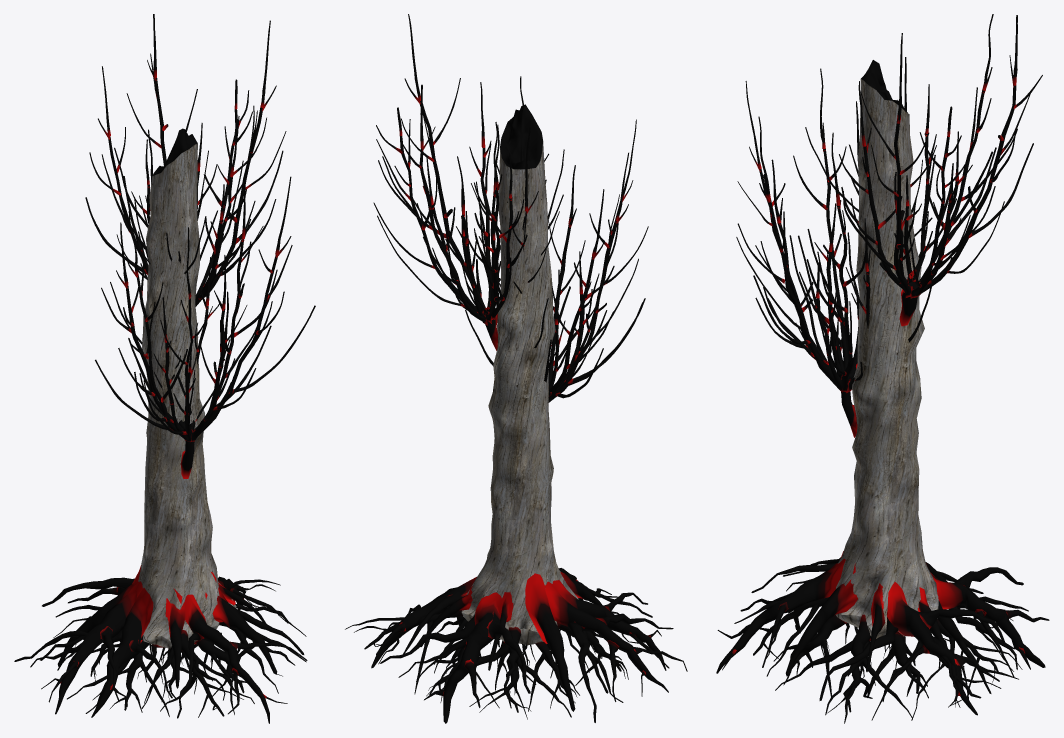
The model's file is Populus nigra Italica HD_Snag 1 dead_LOD2.fbx.
3 renders of one model, left to right at view 1: azimuth 30°, elevation 25°; view 2: azimuth 150°, elevation 25°; view 3: azimuth 270°, elevation 25°, orthographic. The views are drawn at different scales.
Visible parts, largest first — view 1: Populus_nigra__Italica__HD; view 2: Populus_nigra__Italica__HD; view 3: Populus_nigra__Italica__HD.
Boxes of the visible parts, x1,y1,x2,y2 form: Populus_nigra__Italica__HD: [14, 14, 315, 723]; Populus_nigra__Italica__HD: [345, 14, 687, 723]; Populus_nigra__Italica__HD: [716, 14, 1049, 723].
Size of the model in its own units: 4.18 by 8.95 by 3.84.
